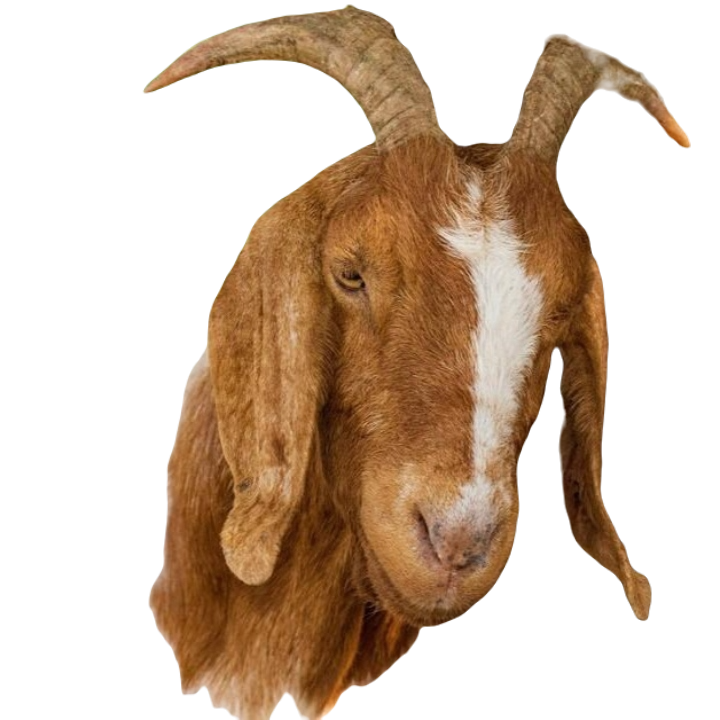Goat: (142, 6, 688, 719)
